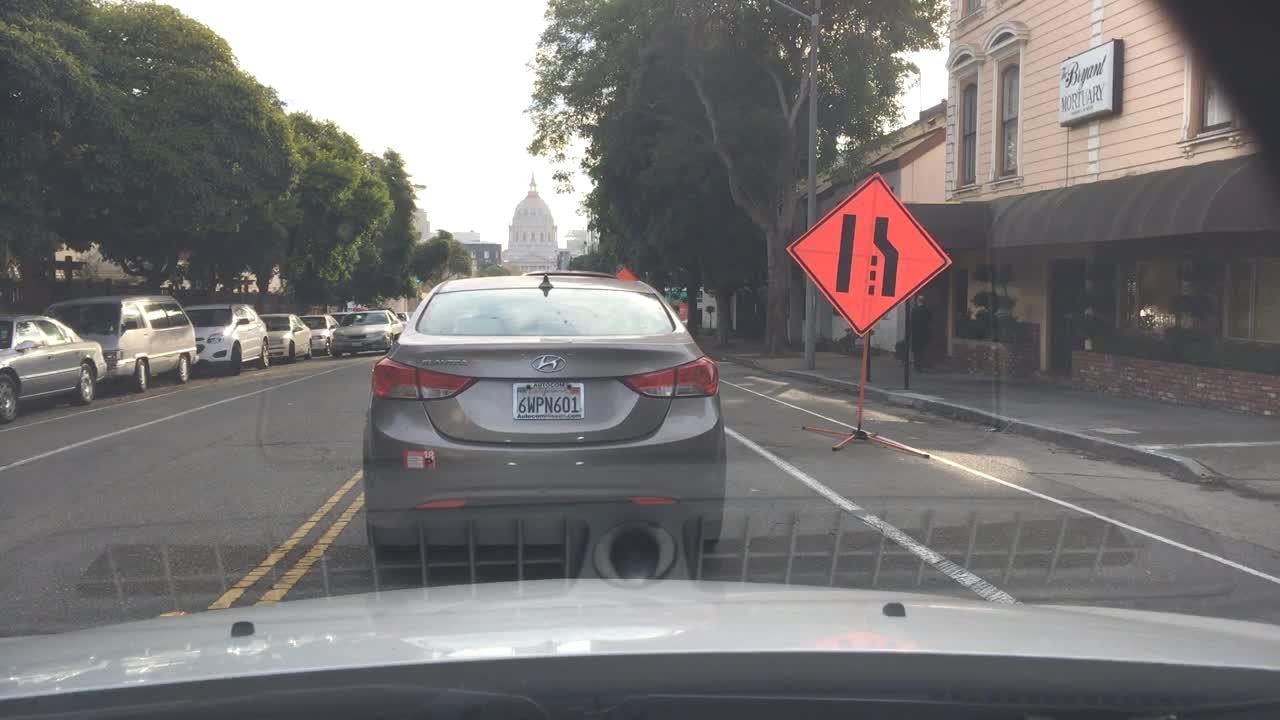Hyundai: (524, 344, 585, 380)
